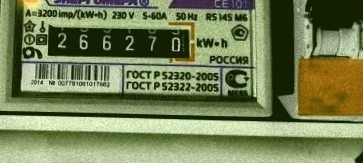0: (169, 35, 182, 52)
2: (54, 30, 68, 49), (123, 33, 135, 51)
6: (100, 33, 113, 52), (77, 32, 90, 50)
7: (146, 33, 158, 52)
screen: (37, 15, 201, 68)
